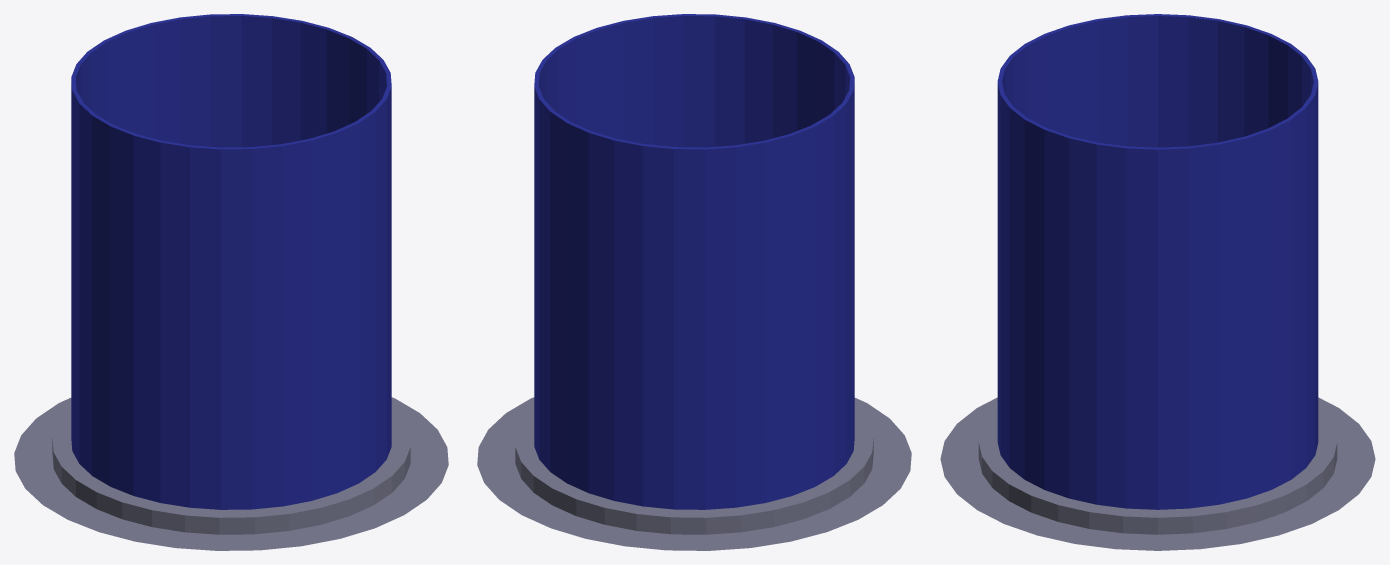
Rendered from Podium.fbx.
3 renders of one model, left to right at view 1: azimuth 30°, elevation 25°; view 2: azimuth 150°, elevation 25°; view 3: azimuth 270°, elevation 25°, orthographic.
Parts seen in each view (by area): view 1: Glass, Podium; view 2: Glass, Podium; view 3: Glass, Podium.
Part boxes in pixels (x1=…): Glass: x1=71, y1=14, x2=391, y2=509; Podium: x1=14, y1=397, x2=448, y2=550; Glass: x1=534, y1=14, x2=854, y2=509; Podium: x1=477, y1=397, x2=911, y2=550; Glass: x1=997, y1=14, x2=1318, y2=509; Podium: x1=940, y1=397, x2=1375, y2=550.
Size of the model in its own units: 200 by 191 by 200.
